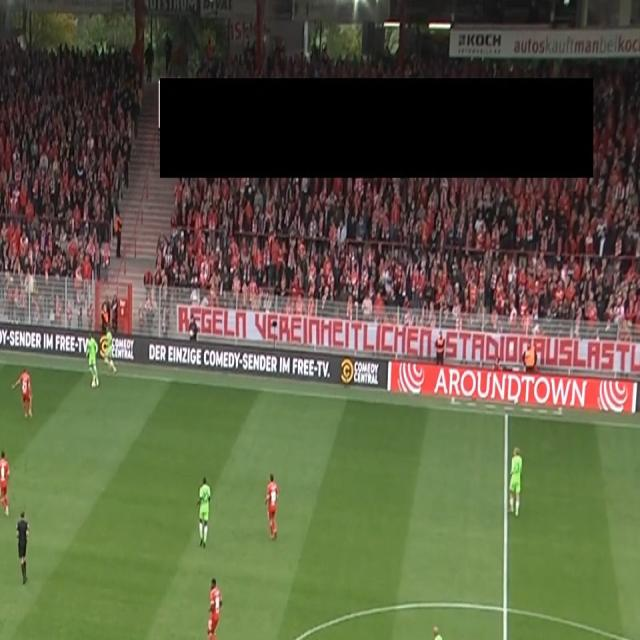ball: (89, 377, 98, 391)
